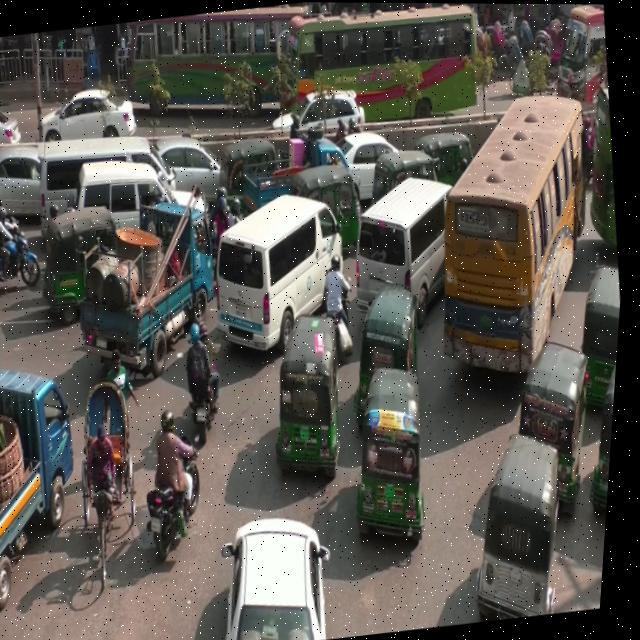cng: (475, 407, 583, 620), (256, 289, 358, 485), (355, 363, 448, 553), (512, 330, 612, 501), (344, 257, 437, 423), (28, 202, 140, 337), (281, 155, 373, 264), (360, 137, 443, 232), (207, 117, 281, 217), (419, 122, 490, 215)
rikshaw: (66, 369, 158, 591)
